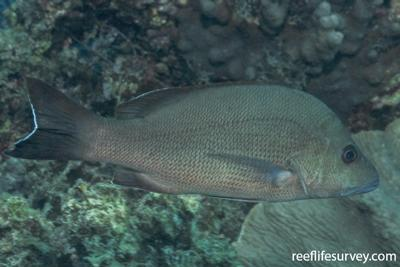Lutjanidae -Snappers-: (5, 65, 384, 202)
